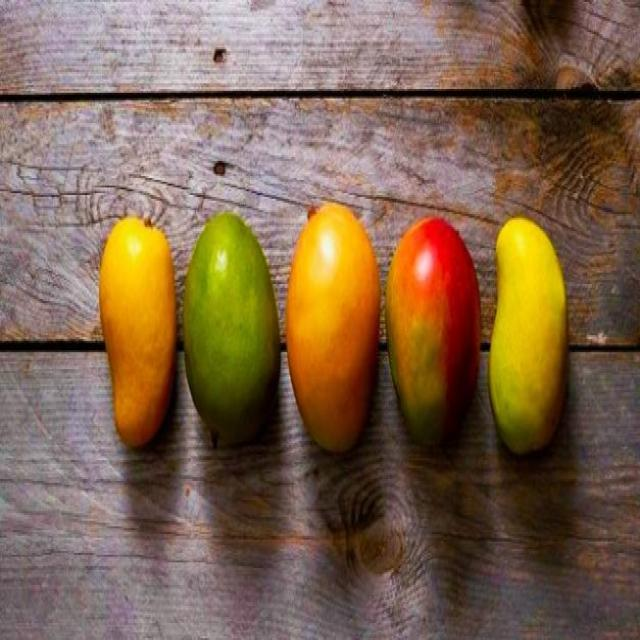mango: (284, 202, 383, 452), (181, 210, 281, 447), (383, 216, 484, 449), (486, 213, 569, 458), (93, 207, 173, 435)
